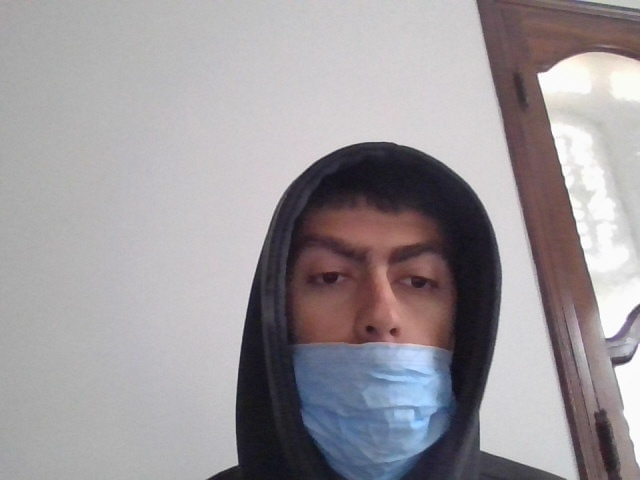mask_weared_incorrect: (276, 176, 462, 480)
